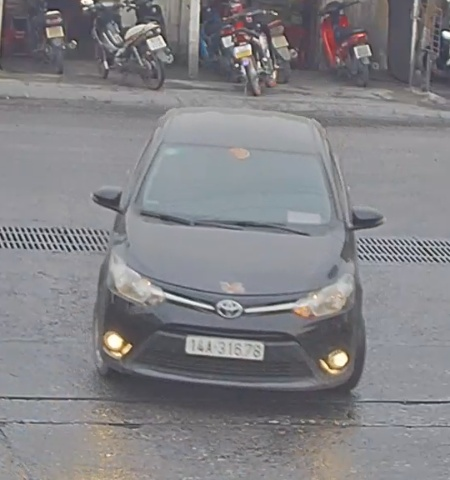vehicle plate: (179, 329, 270, 364)
